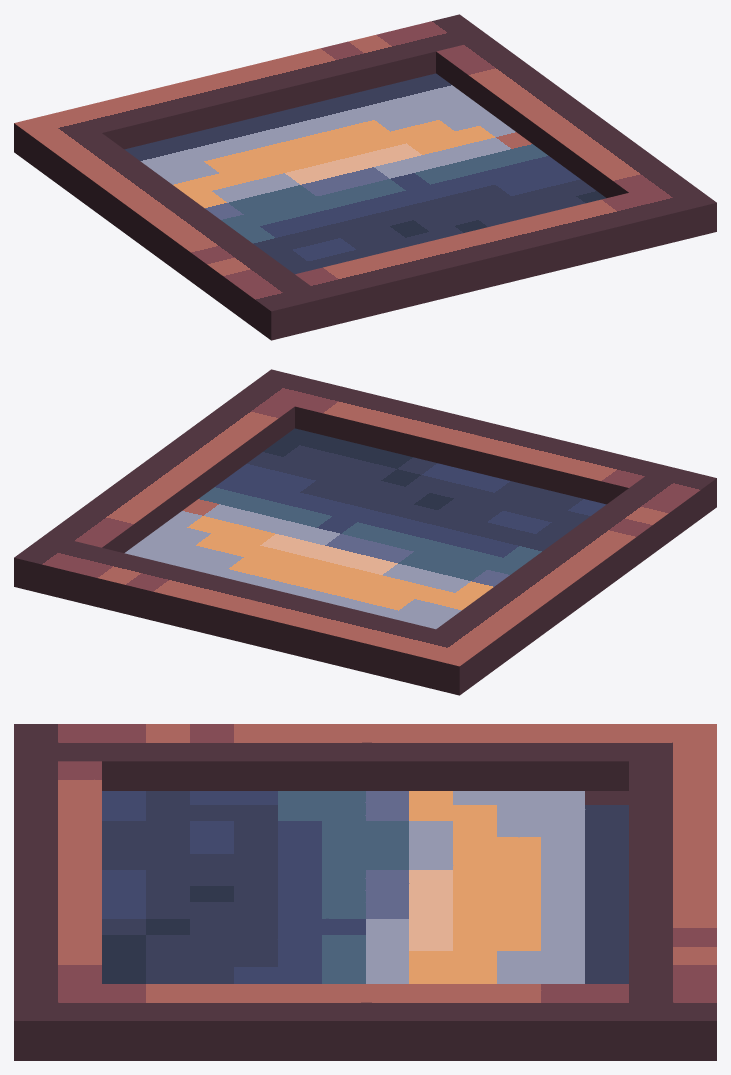
File: frame.fbx
3 views of the same model, one above another, from view 1: azimuth 30°, elevation 25°; view 2: azimuth 150°, elevation 25°; view 3: azimuth 270°, elevation 25° (orthographic). The views are drawn at different scales.
Visible parts, largest first — view 1: cuboid, sunset; view 2: cuboid, sunset; view 3: cuboid, sunset.
Part boxes in pixels (x1,y1,x2,y2): cuboid: (14, 14, 716, 340); sunset: (124, 73, 606, 274); cuboid: (14, 369, 716, 695); sunset: (124, 428, 606, 629); cuboid: (14, 724, 716, 1060); sunset: (102, 791, 628, 983).
Size of the model in its own units: 100 by 6.25 by 100.
Materials: 1 (1 with a texture image).
